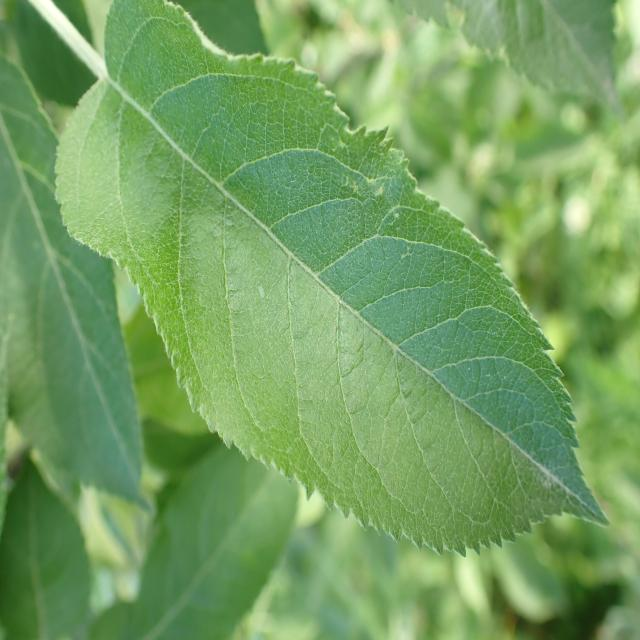healthy: (54, 0, 610, 558), (0, 52, 151, 516), (396, 0, 624, 122)
